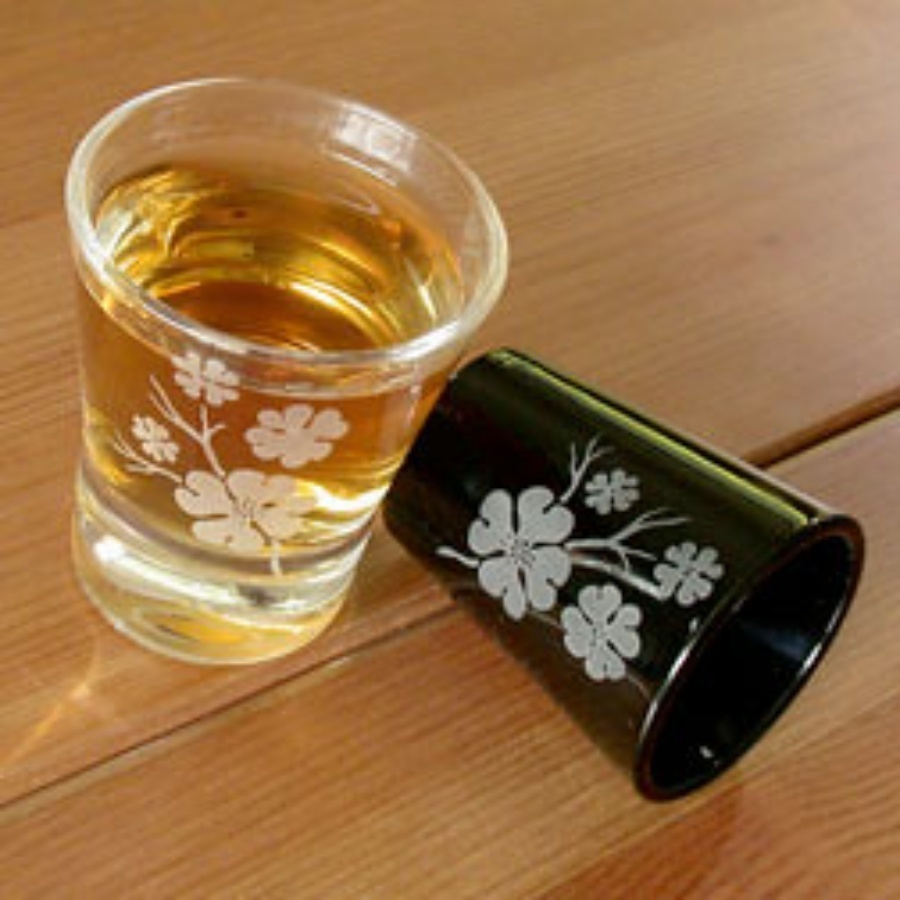whiskey: (70, 89, 490, 677)
